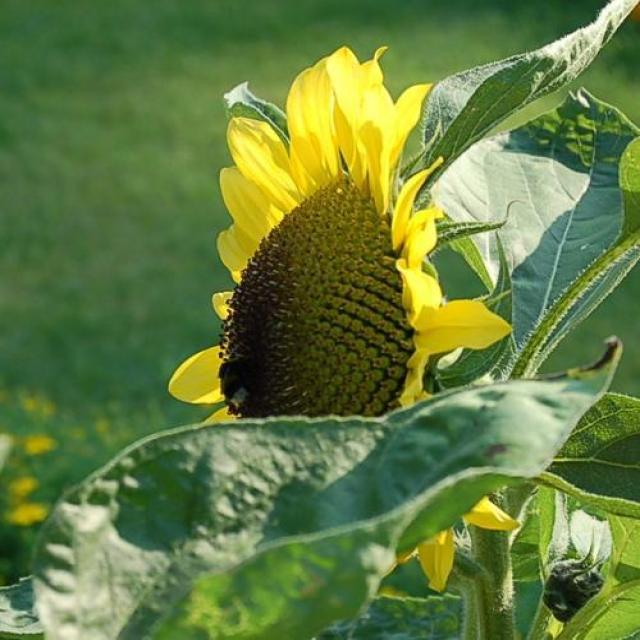sunflower: (162, 37, 517, 432)
